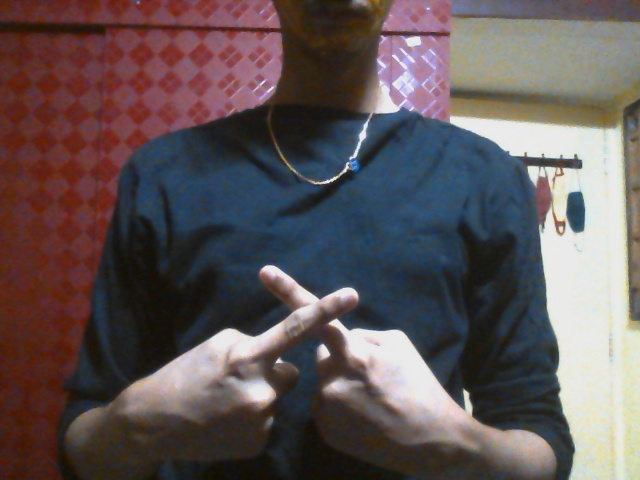X: (159, 264, 453, 465)
